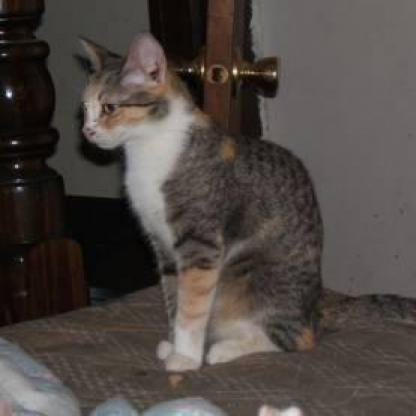cat: (75, 32, 415, 376)
